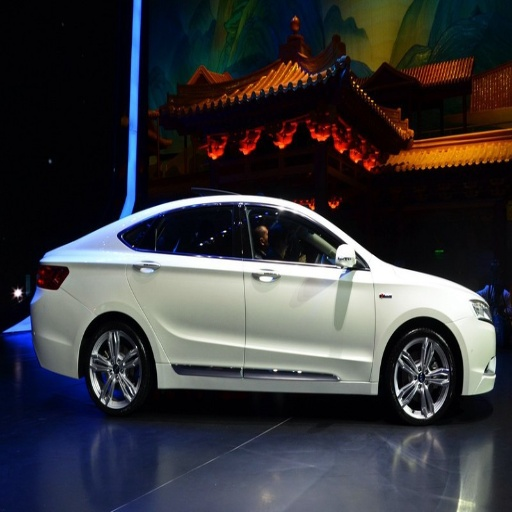back_right_door: (127, 203, 249, 377)
front_right_door: (244, 203, 375, 381)
